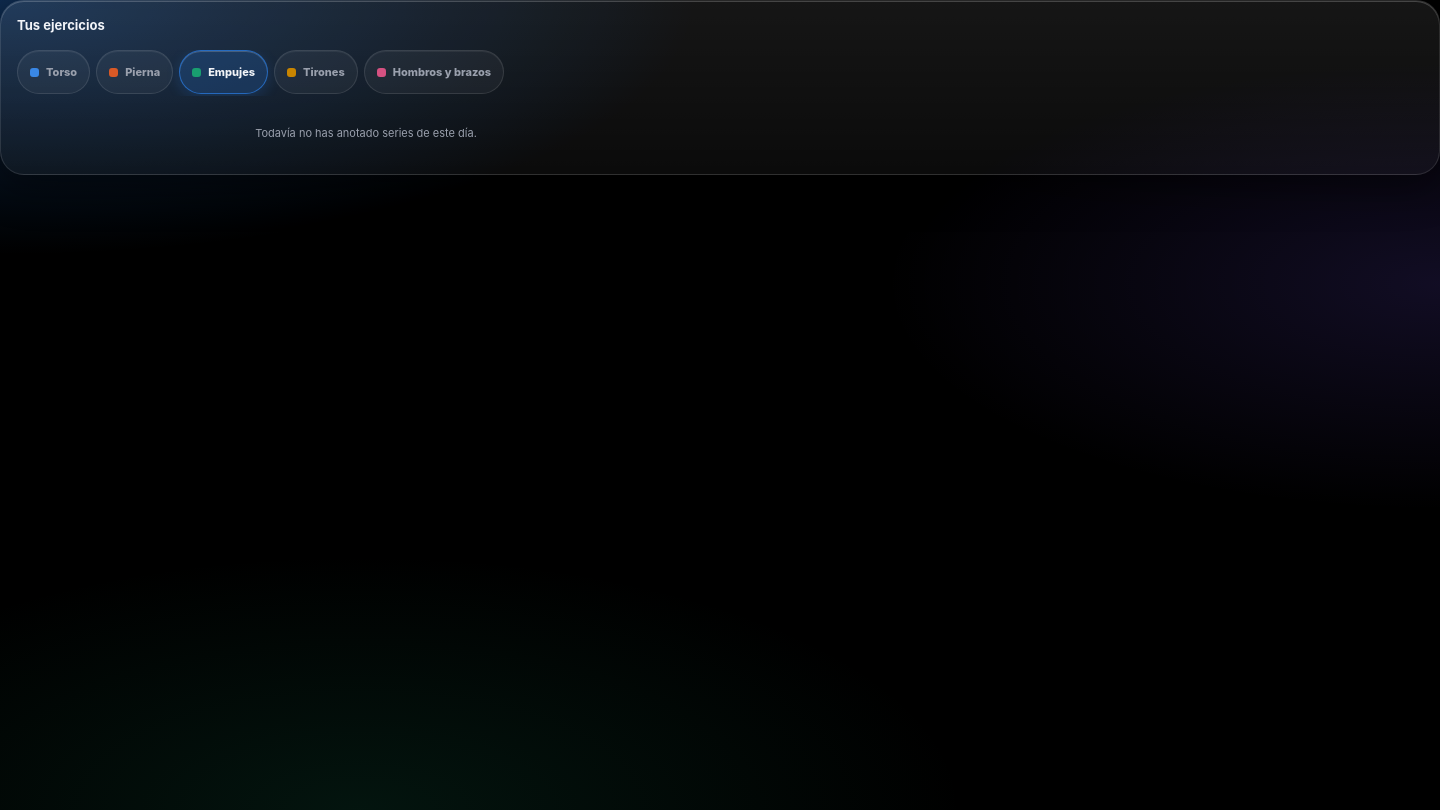
Test case: Progreso · Tus ejercicios › al tocar un ejercicio se despliega con su récord y su gráfica
Step 1. Click the tab "Torso" → point(54, 72), box [17,50,90,94]
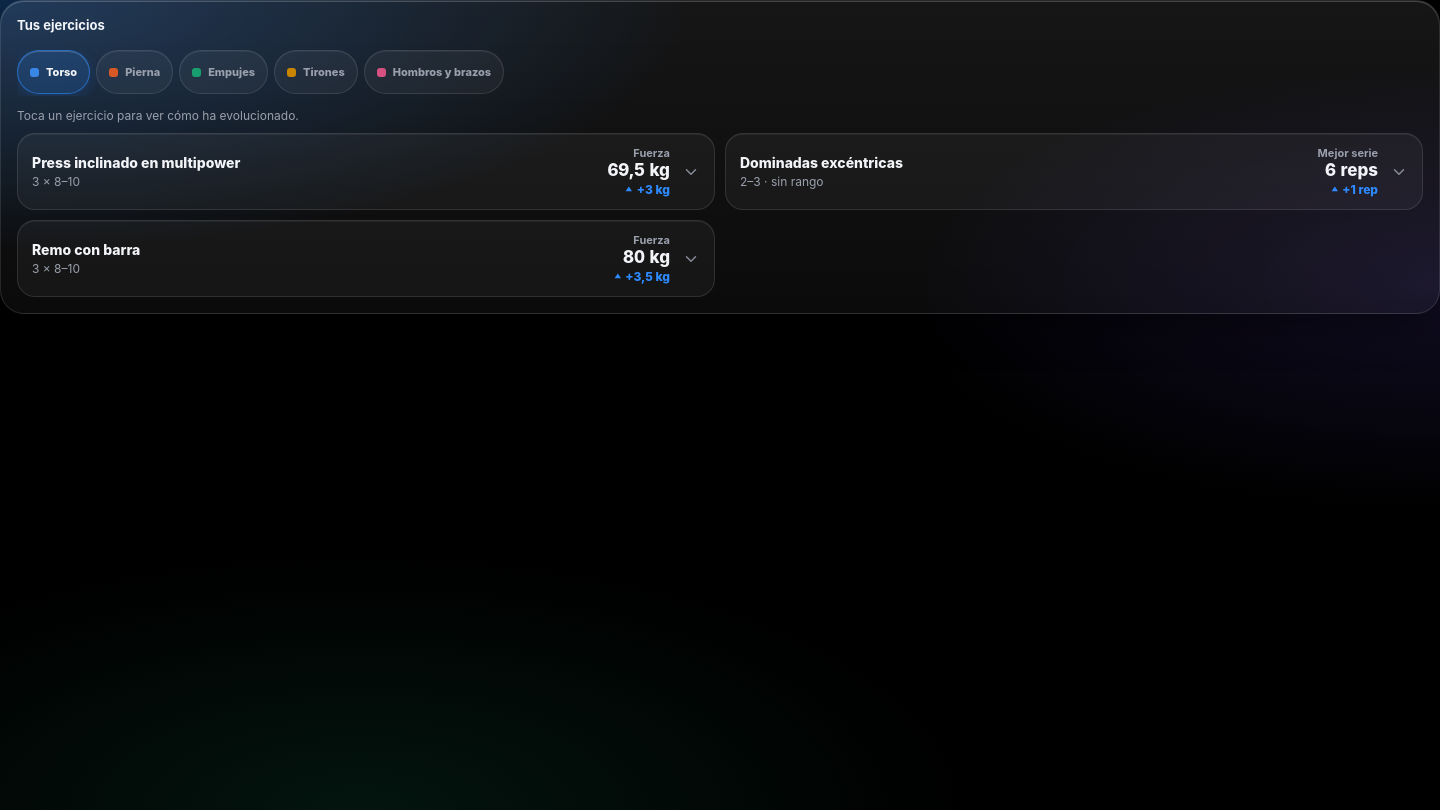
Step 2. Click the button "Press inclinado en multipower 3 × 8–10 Fuerza 69,5 kg +3 kg" → point(136, 162), box [18,134,714,209]
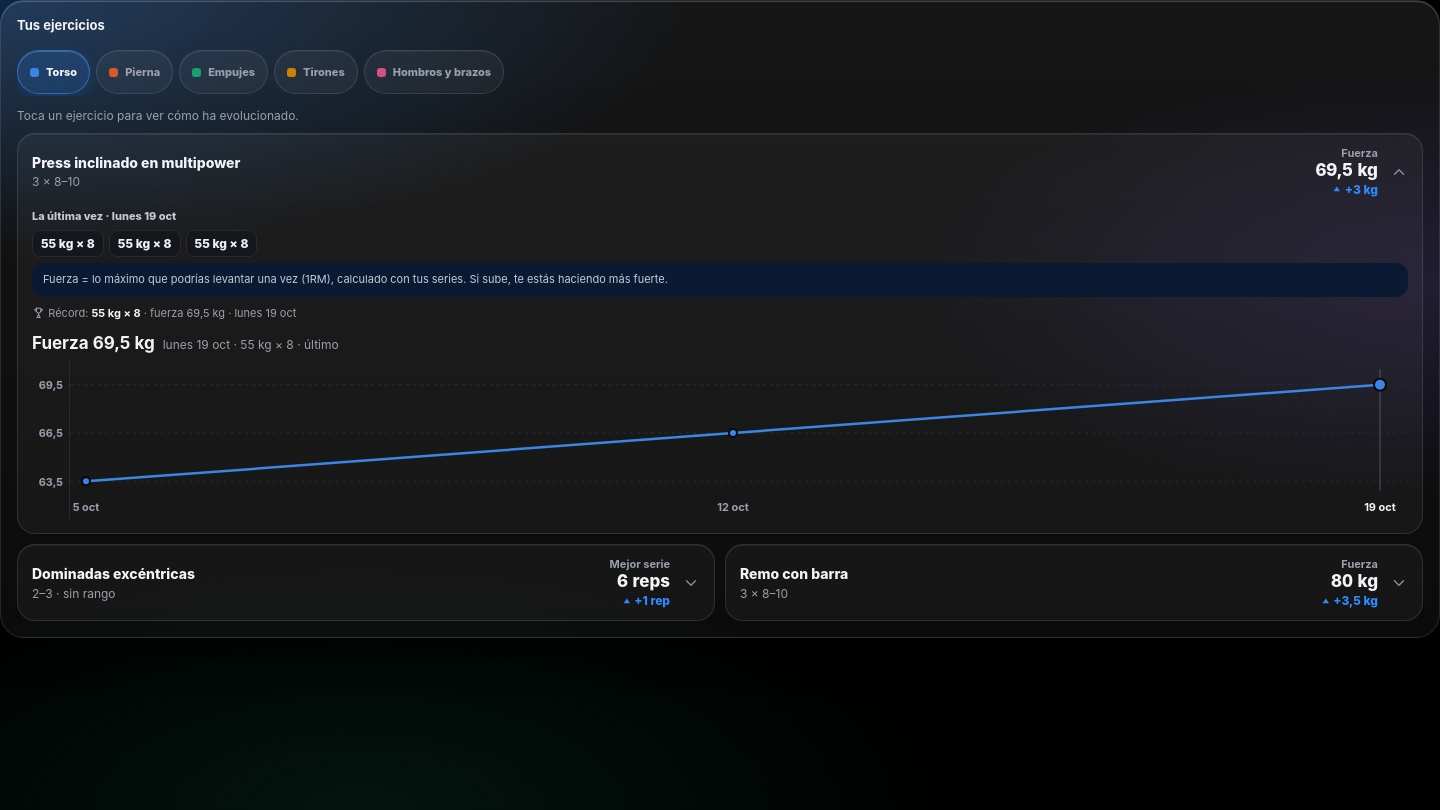
Now the button "Press inclinado en multipower 3 × 8–10 Fuerza 69,5 kg +3 kg" is expanded, box [18,134,1422,209]
Now the icon named "Fuerza de Press inclinado en multipower por fecha" is shown, box [70,359,1408,519]
Now the text "Récord: 55 kg × 8 · fuerza 69,5 kg · lunes 19 oct" is shown, box [32,306,296,320]
